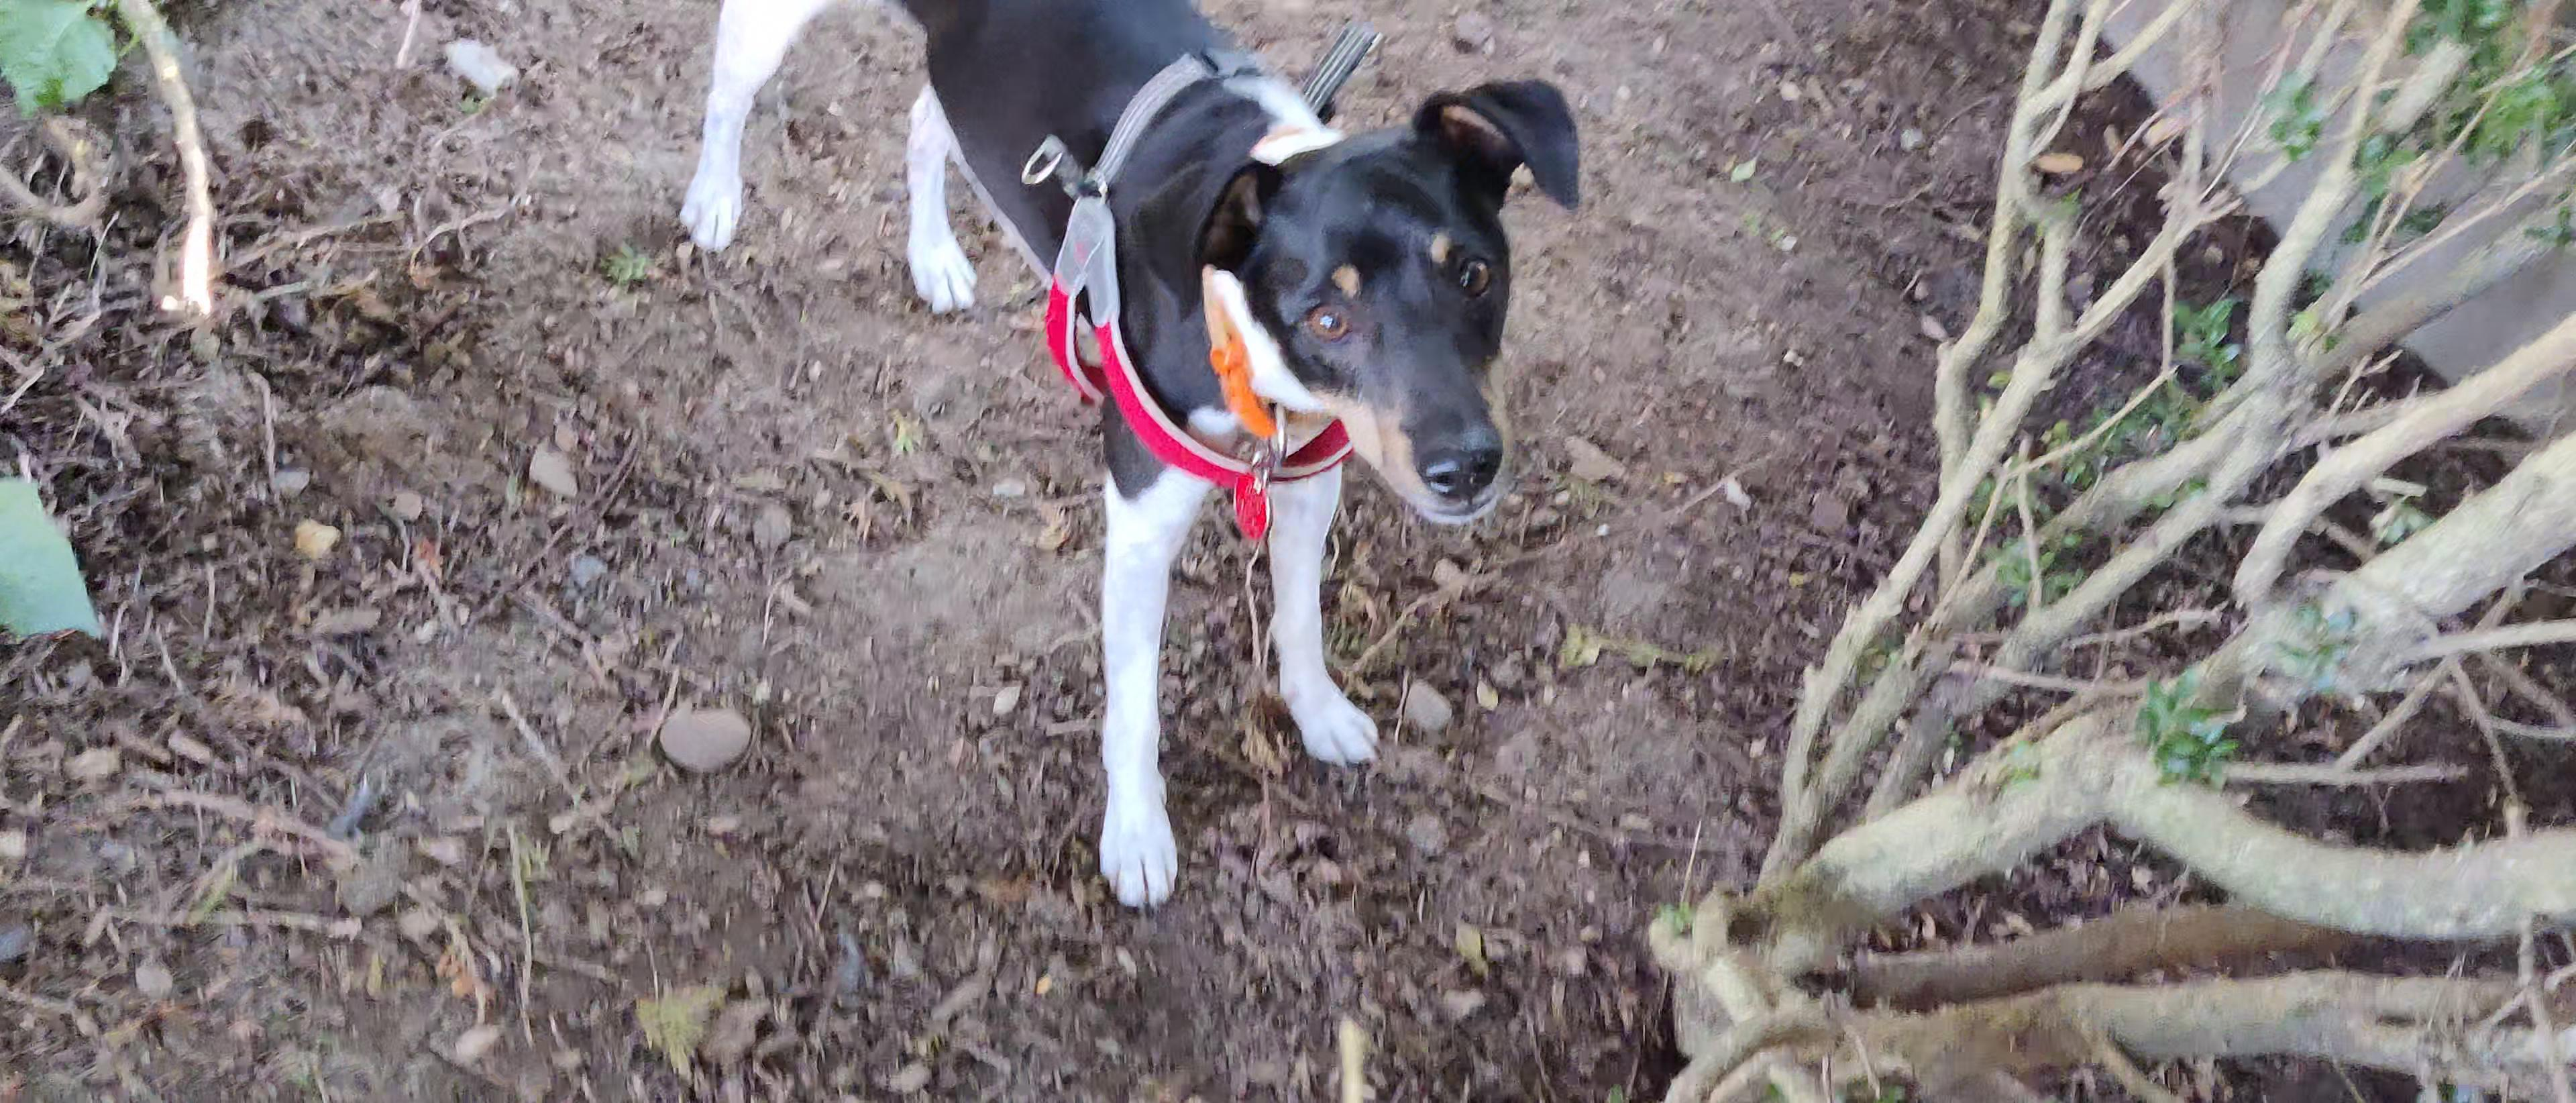Dog: (667, 0, 1603, 919)
